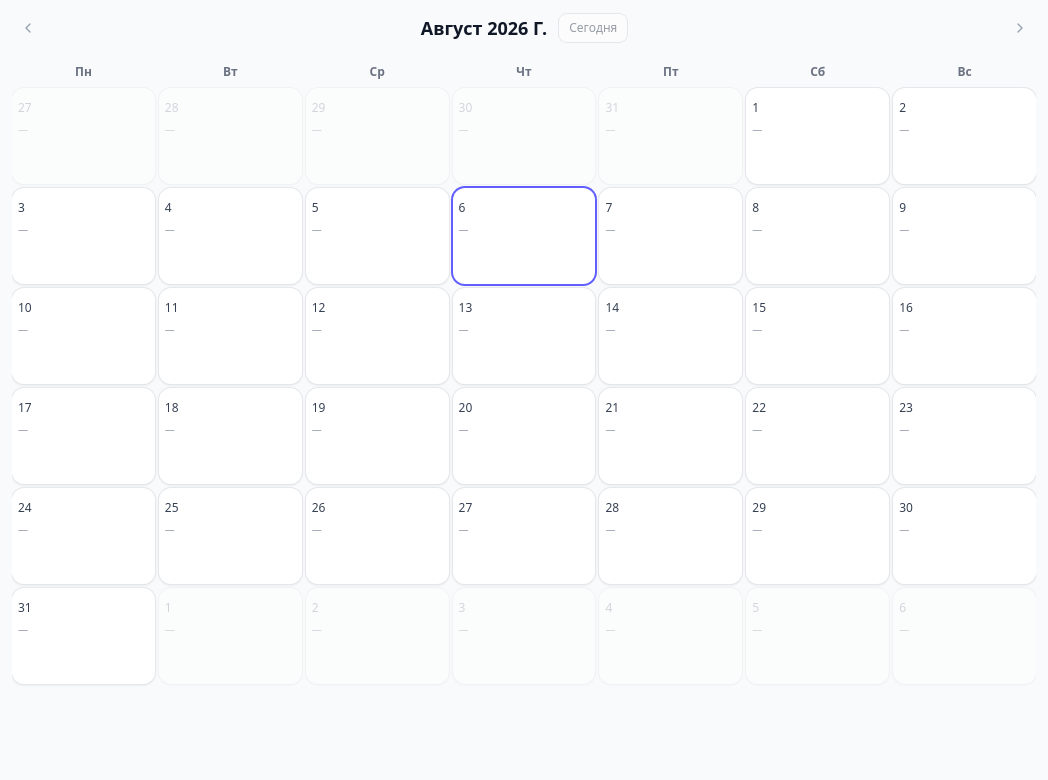
Scenario: MonthView › "Сегодня" returns to the current month and is disabled there
Expected: the button "Сегодня" is disabled, [559,14,627,42]
What coordinates should you click on to do the following:
click the button named "Следующий месяц"
I would click on:
 (1020, 28)
Its box is [1004,12,1036,44].
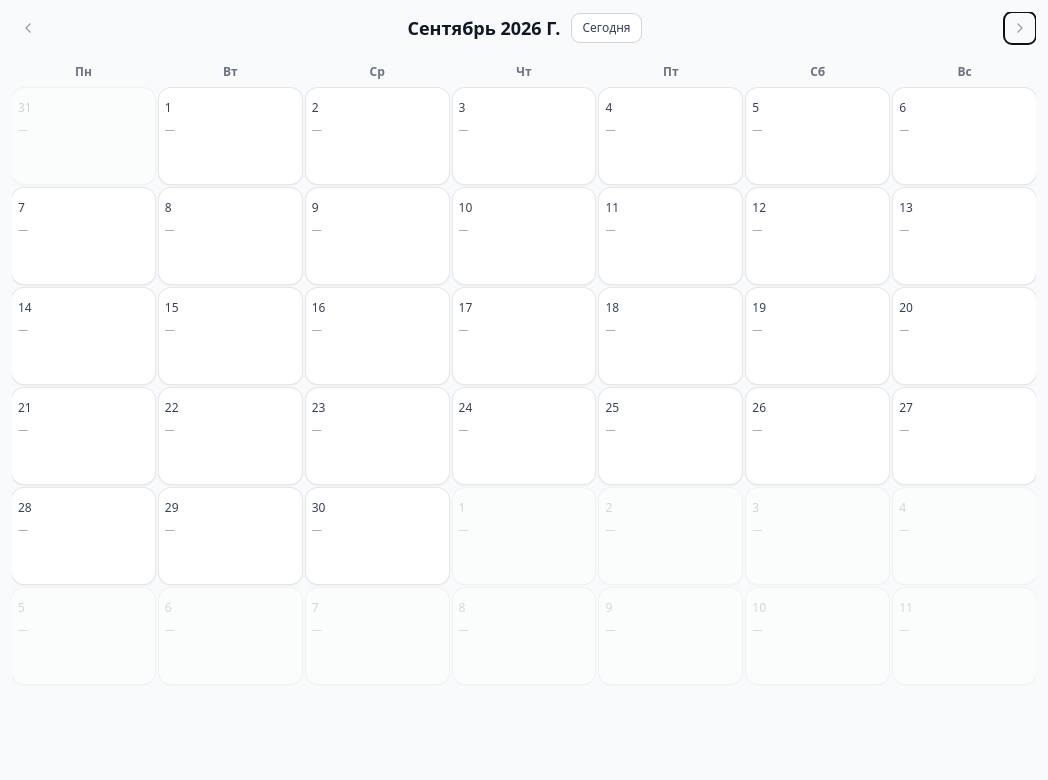
Now the heading "сентябрь 2026 г." is shown, box [408,14,560,42]
What coordinates should you click on to do the following:
click the button "Сегодня"
I would click on:
 (606, 28)
Its box is [572,14,640,42].
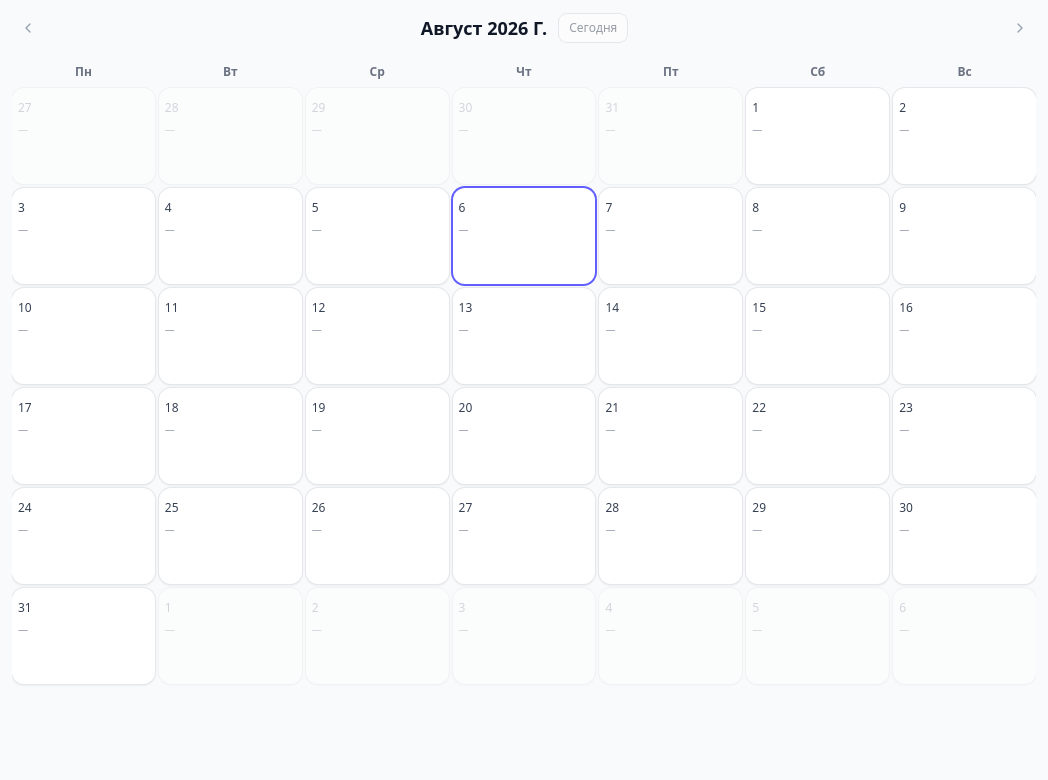
Now the heading "август 2026 г." is shown, box [421,14,547,42]
